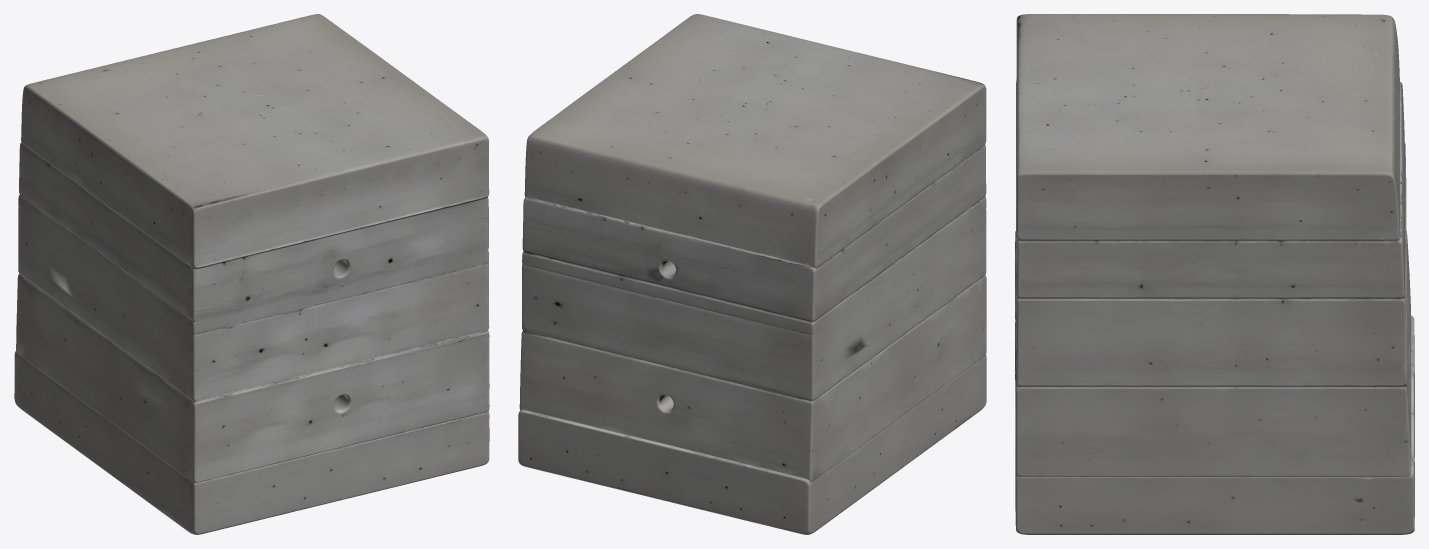
The model's file is concrete.glb.
3 renders of one model, left to right at view 1: azimuth 30°, elevation 25°; view 2: azimuth 150°, elevation 25°; view 3: azimuth 270°, elevation 25°, orthographic. The views are drawn at different scales.
Parts seen in each view (by area): view 1: material; view 2: material; view 3: material.
Part boxes in pixels (x1,y1,x2,y2): material: (14,14,489,534); material: (518,14,986,534); material: (1015,14,1414,534).
Bounding box in the file's own units: 0.6731 × 0.7157 × 0.7132.
Materials: 1 (1 with a texture image).
